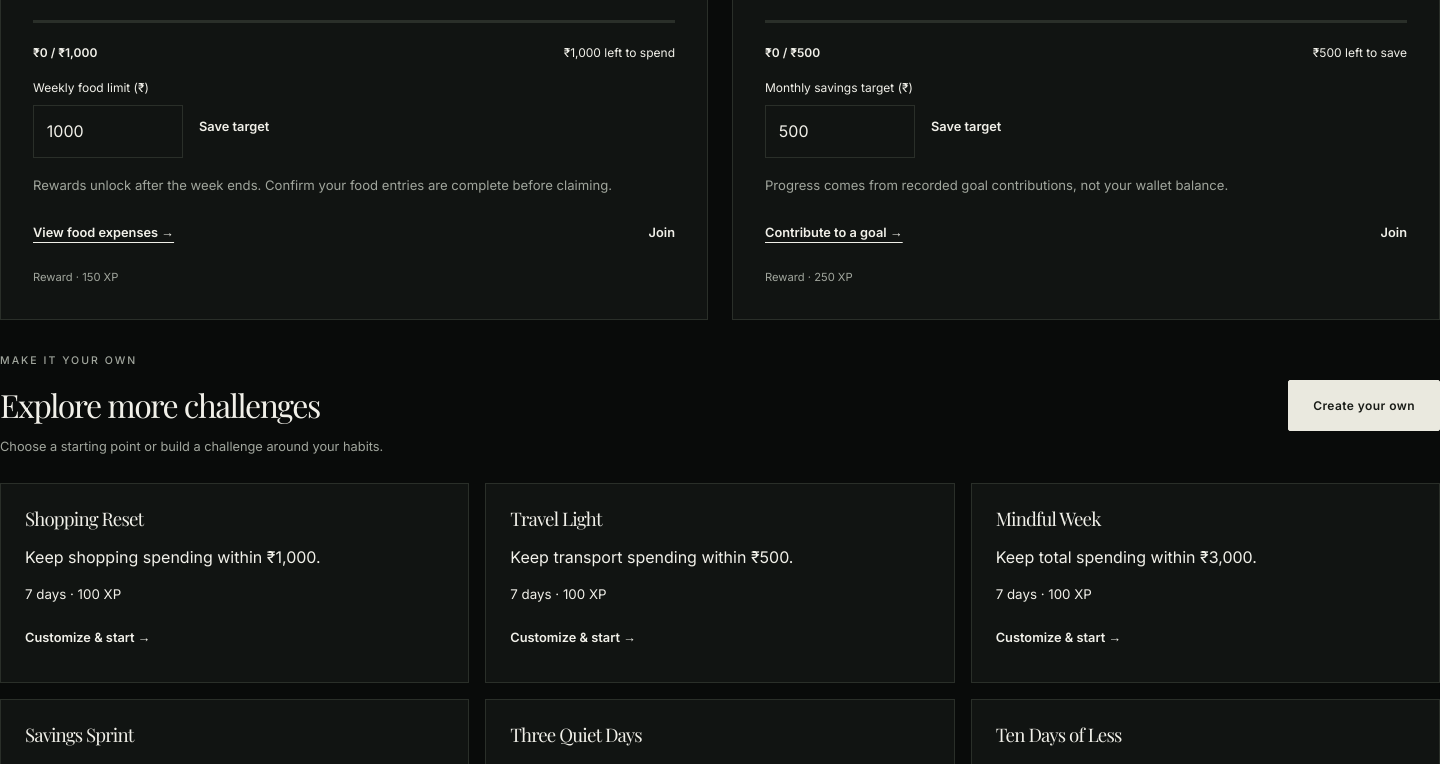
Test: Custom challenge creation › creates and pauses a personal challenge without modifying financial records
The width and height of the screenshot is (1440, 764).
(page scrolled)
Click the button "Create your own" at (1364, 405), box [1288, 380, 1439, 431]
(page scrolled)
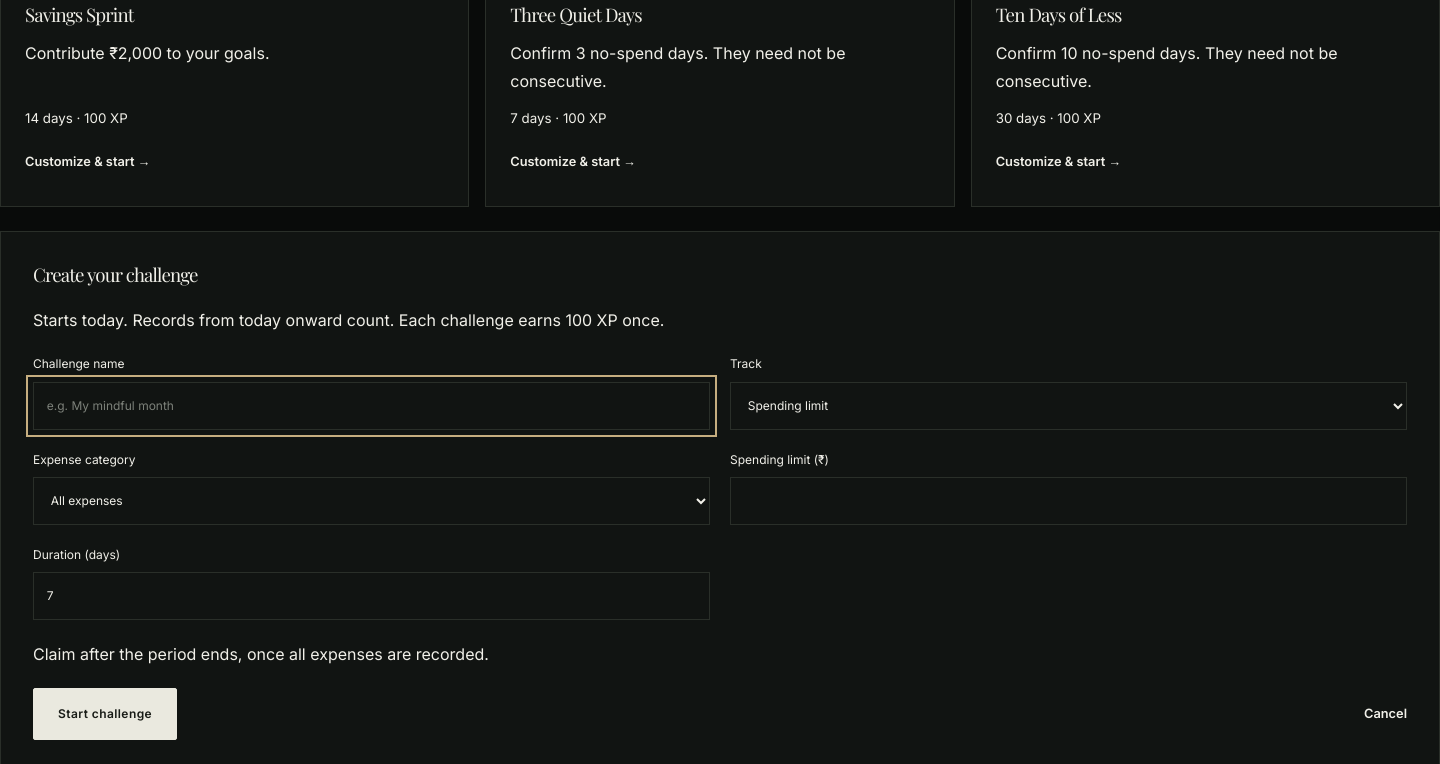
Type "My quiet week" into the field labelled "Challenge name" at (372, 406), box [33, 382, 710, 430]
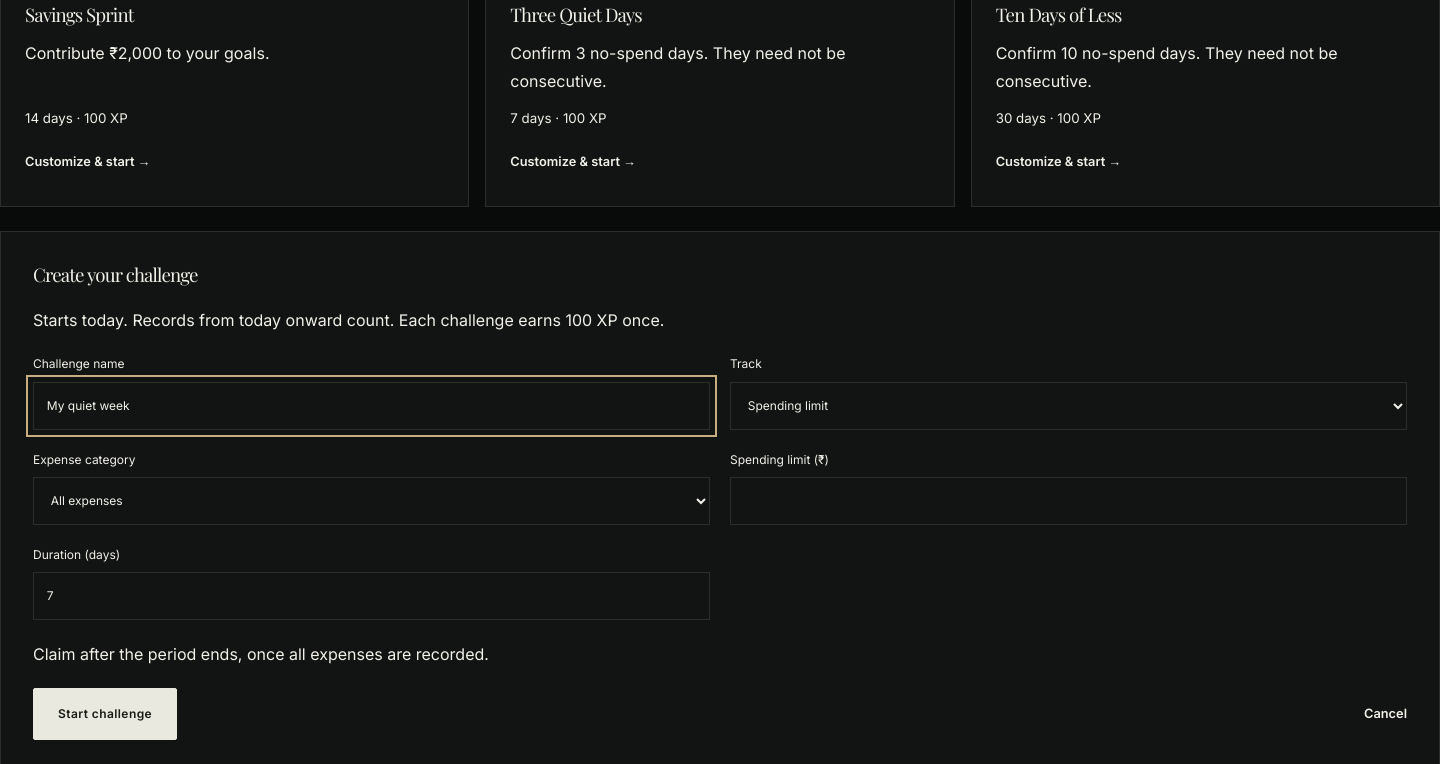
Select "No-spend days" in the dropdown labelled "Track" at (1068, 406), box [730, 382, 1407, 430]
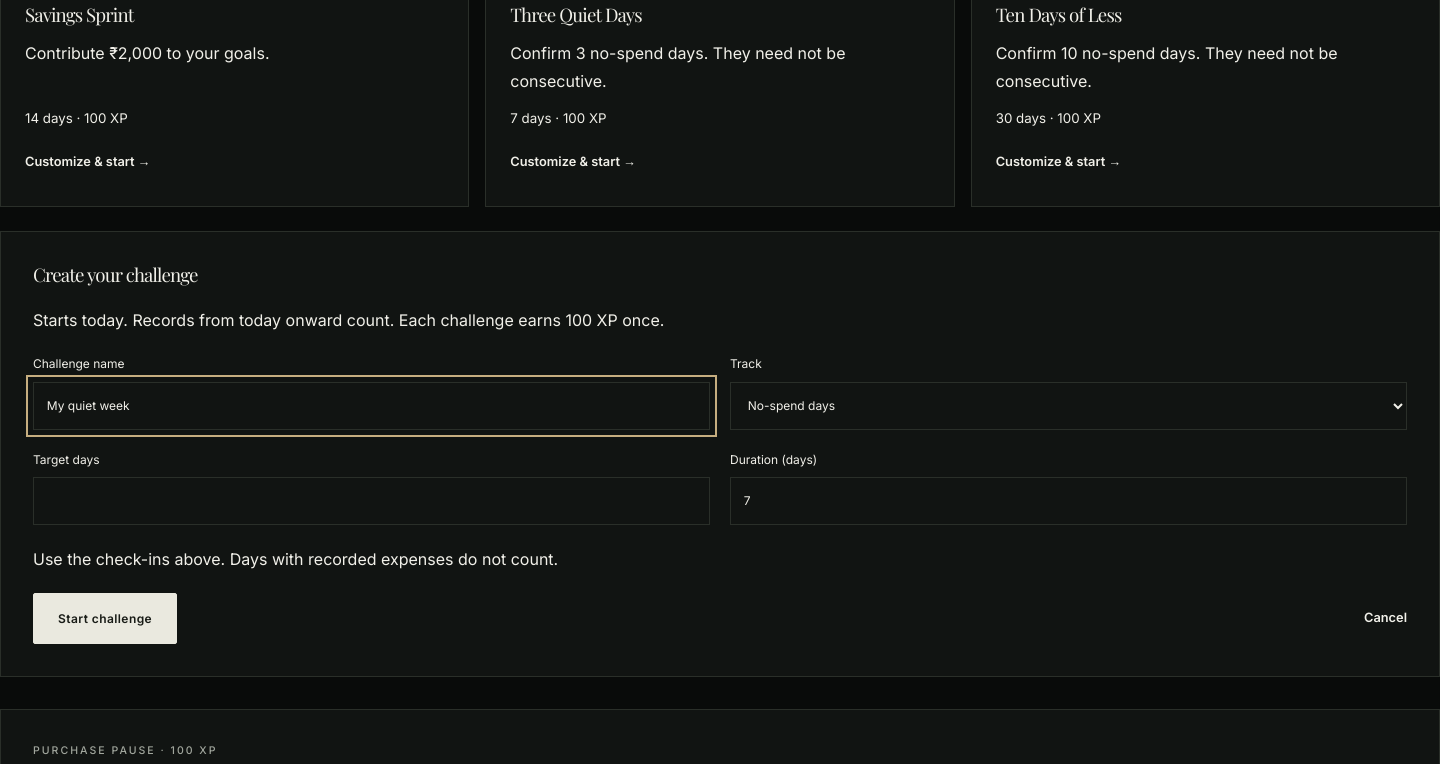
Type "3" into the number field labelled "Target days" at (372, 501), box [33, 477, 710, 525]
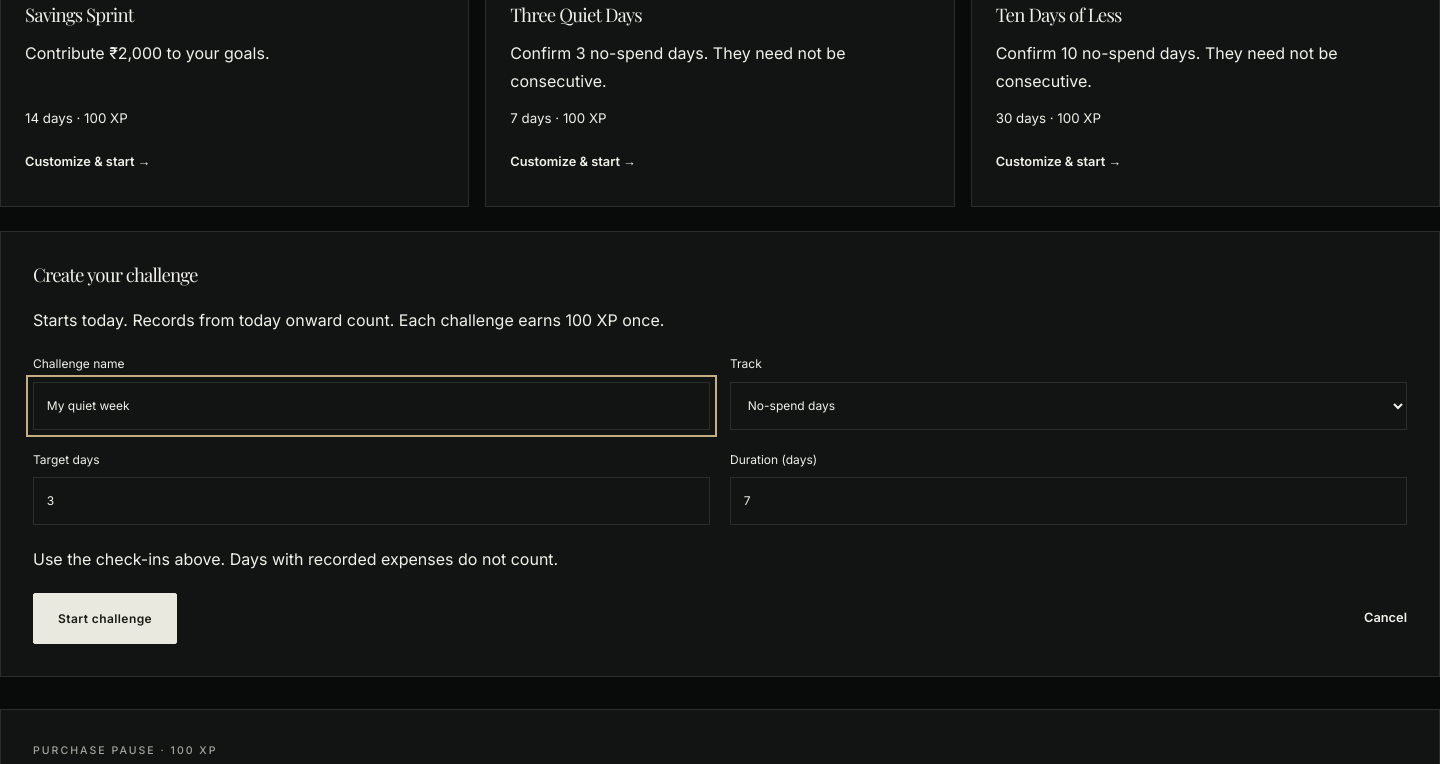
Click the button "Start challenge" at (105, 619), box [33, 593, 177, 644]
(page scrolled)
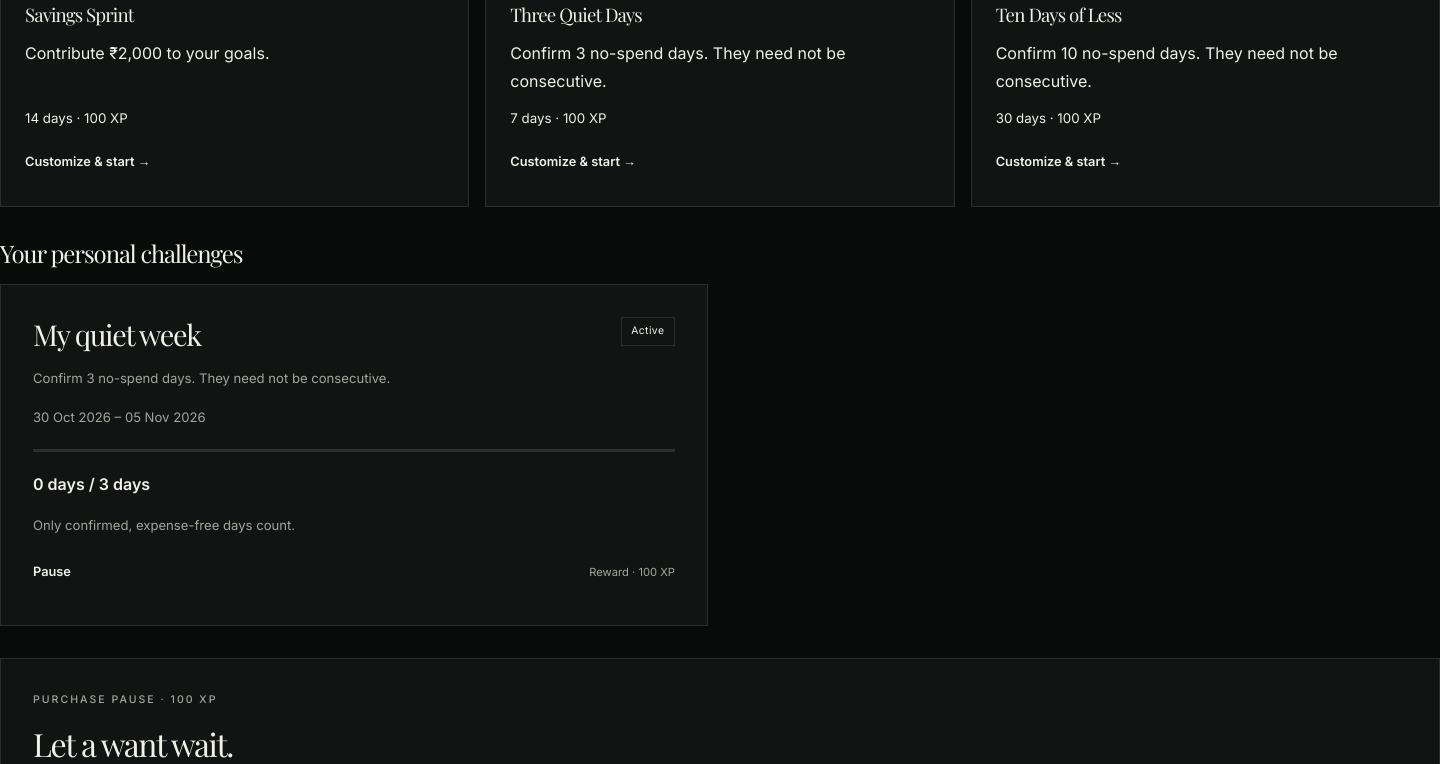
Check: the heading "My quiet week" is shown, box [33, 317, 201, 351]
Click the button "Pause" at (52, 573), box [33, 553, 71, 593]
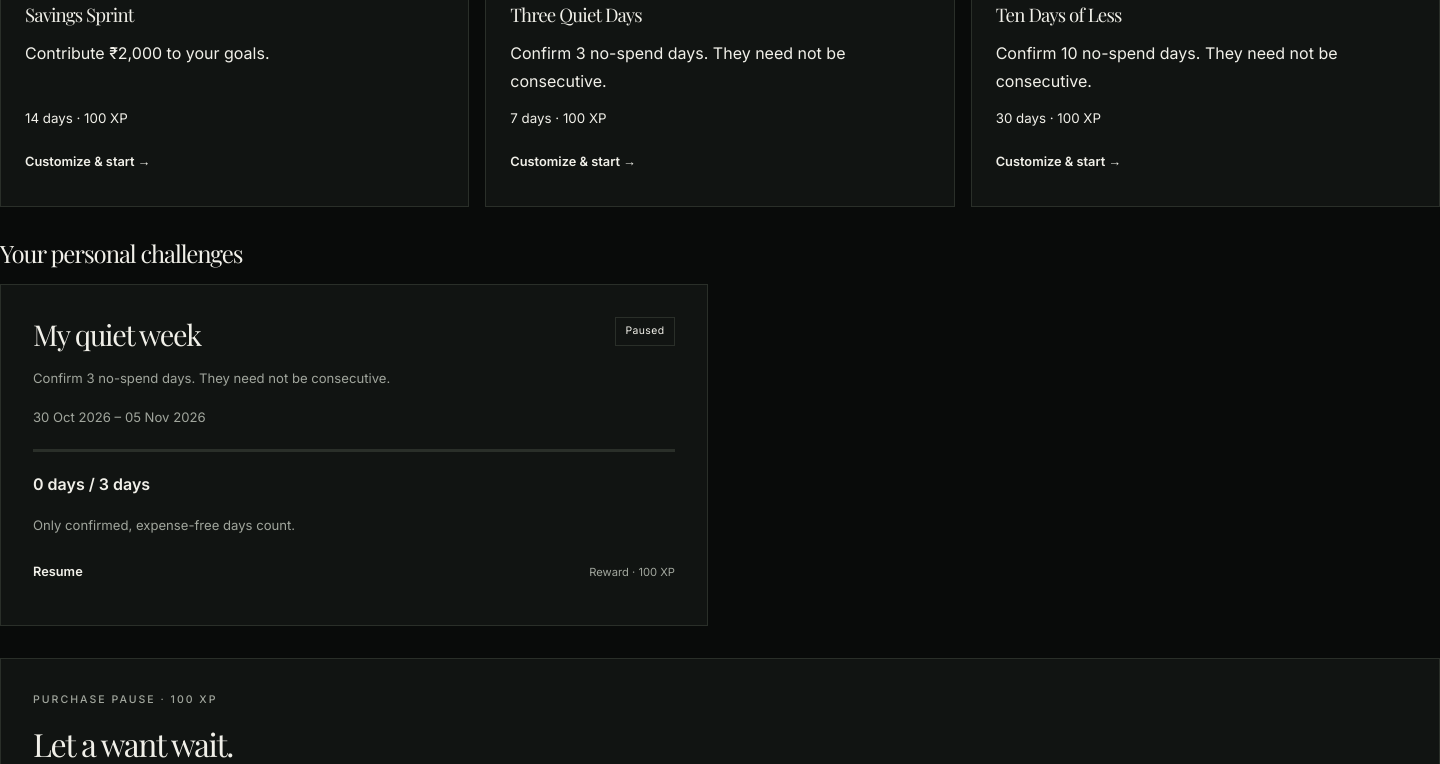
Check: the button "Resume" is shown, box [33, 553, 83, 593]
